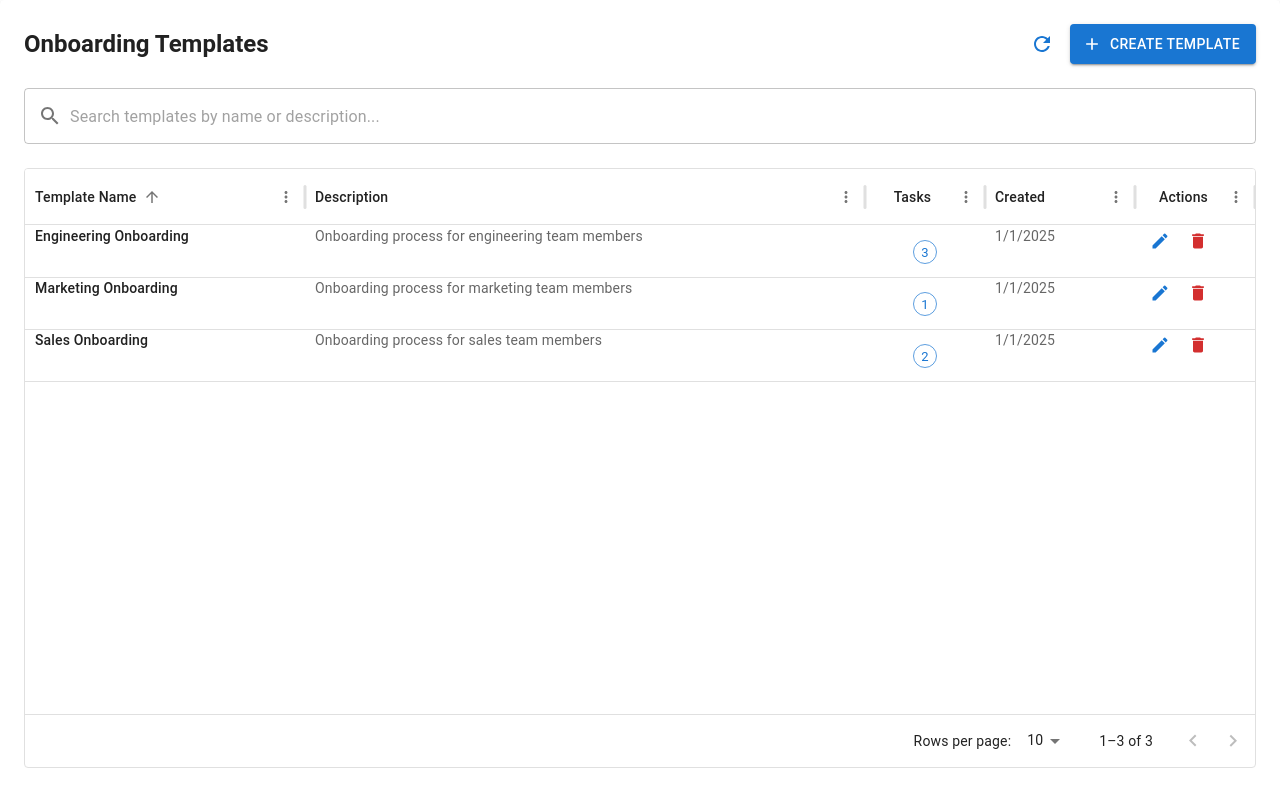
Test: TemplateList Component › Search Functionality › filters templates by description
expect the text "Engineering Onboarding" is shown: met, box [35,228,189,244]
Type "sales team" into the field with placeholder "Search templates by name or description..." at (663, 116), box [70,88,1256,144]
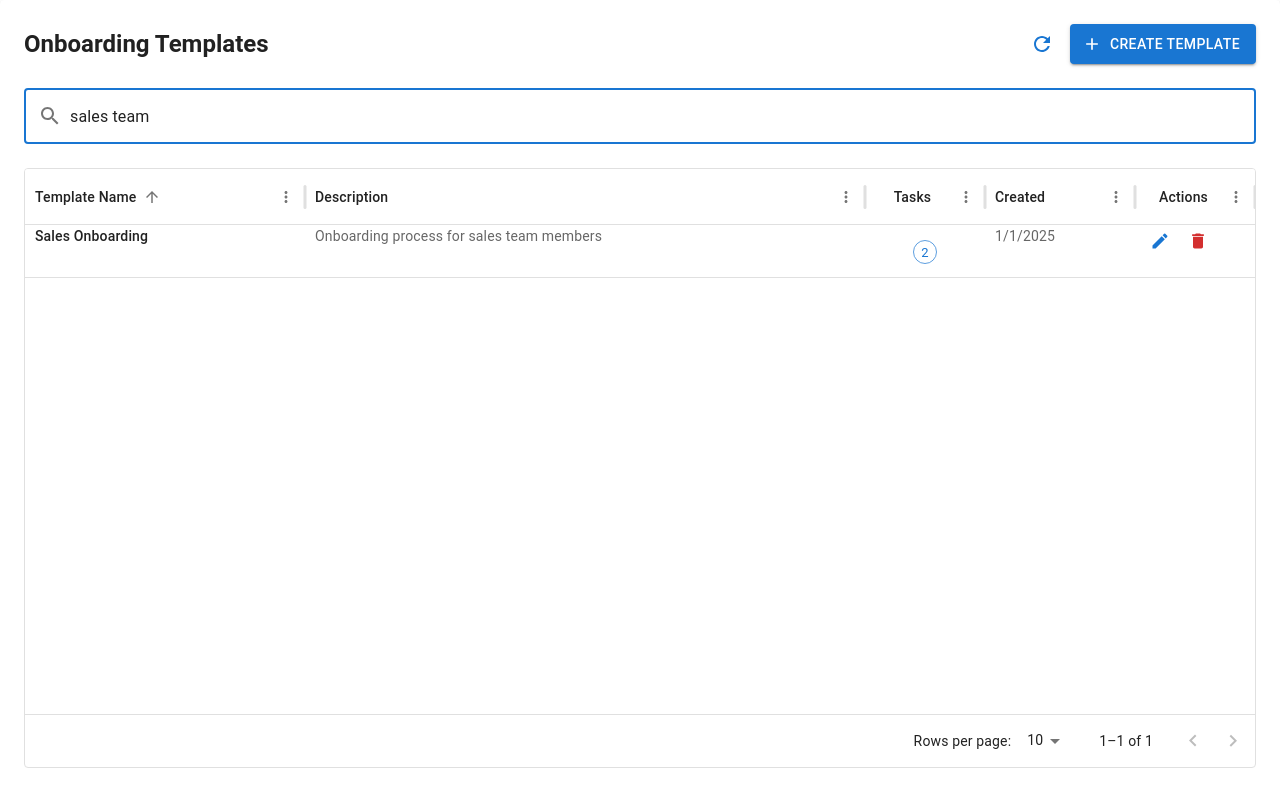
expect the text "Sales Onboarding" is shown: met, box [35,228,148,244]
expect the text "Engineering Onboarding" is gone: met
